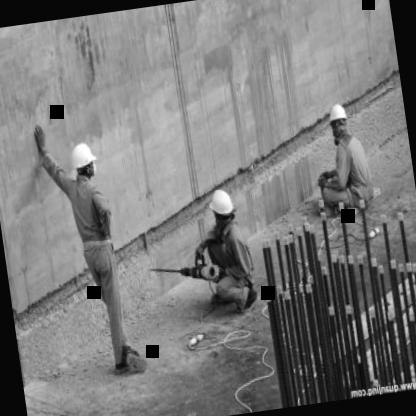helmet: (205, 186, 238, 228), (68, 140, 100, 182), (326, 100, 352, 145)
